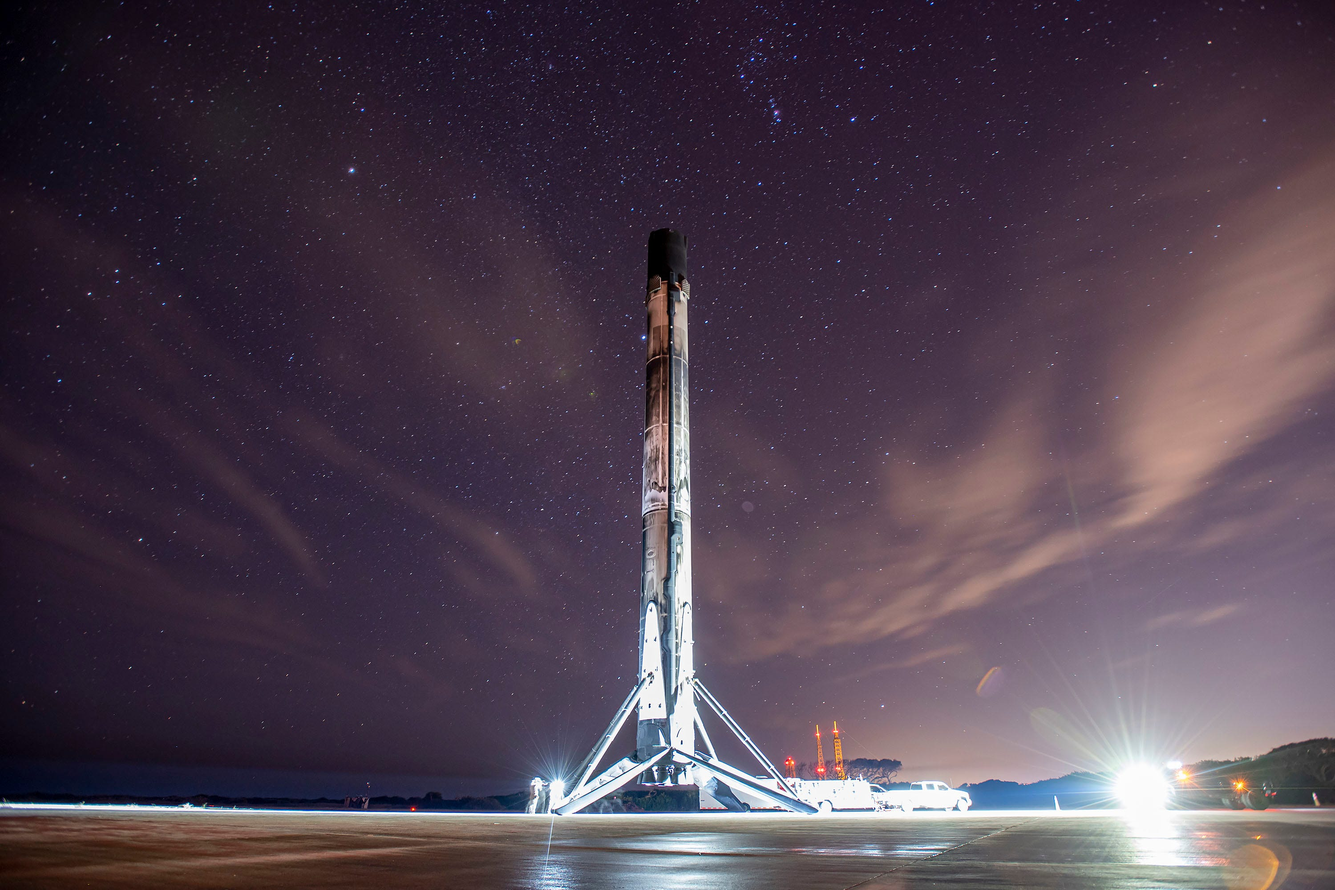falcon: (544, 213, 826, 811)
